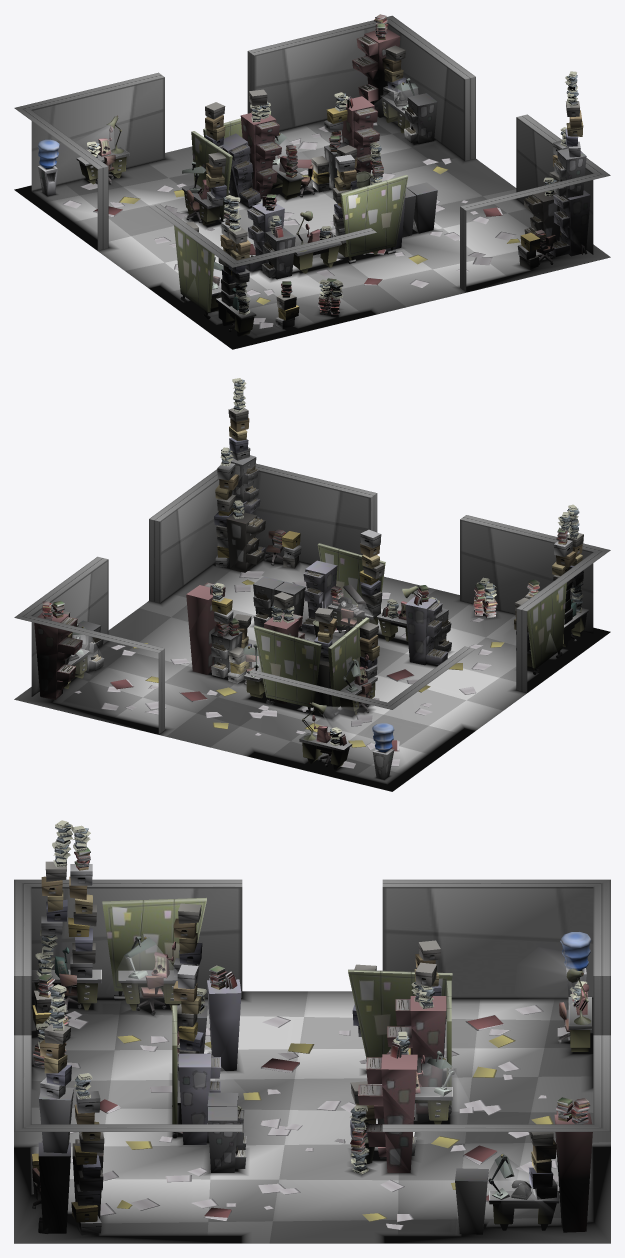
File: field_maze_quadrant8.glb
The picture shows the model from 3 angles, top to bottom: view 1: azimuth 30°, elevation 25°; view 2: azimuth 150°, elevation 25°; view 3: azimuth 270°, elevation 25°; orthographic projection. The views are drawn at different scales.
Visible parts, largest first — view 1: maze_floor, maze1_grouping1, maze2_grouping2, maze4_grouping4, maze6_grouping6, maze3_grouping3a, maze5_grouping5a, maze3_grouping3b, maze7_floorPaperGrouping, maze5_grouping5b, maze5_floorShadow_grouping5, maze2_floorShadow_grouping2 (+8 smaller); view 2: maze_floor, maze4_grouping4, maze6_grouping6, maze3_grouping3a, maze5_grouping5b, maze1_grouping1, maze5_grouping5a, maze3_grouping3b, maze7_floorPaperGrouping, maze2_grouping2, maze2_floorShadow_grouping2, maze1_floorShadow_grouping1 (+6 smaller); view 3: maze_floor, maze2_grouping2, maze5_grouping5a, maze4_grouping4, maze5_grouping5b, maze1_grouping1, maze6_grouping6, maze3_grouping3a, maze7_floorPaperGrouping, maze3_grouping3b, maze1_floorShadow_grouping1, maze4_polySurface1 (+9 smaller).
Boxes of the visible parts, box(x1,y1,x2,y2) form: maze_floor: box(19, 117, 610, 349); maze1_grouping1: box(247, 14, 475, 160); maze2_grouping2: box(14, 72, 164, 250); maze4_grouping4: box(460, 71, 610, 291); maze6_grouping6: box(245, 154, 437, 279); maze3_grouping3a: box(182, 89, 303, 225); maze5_grouping5a: box(174, 195, 256, 336); maze3_grouping3b: box(299, 92, 383, 197); maze7_floorPaperGrouping: box(63, 122, 520, 328); maze5_grouping5b: box(149, 204, 376, 329); maze5_floorShadow_grouping5: box(146, 282, 380, 349); maze2_floorShadow_grouping2: box(14, 153, 174, 252); maze_floor: box(16, 561, 608, 791); maze4_grouping4: box(149, 378, 377, 602); maze6_grouping6: box(253, 529, 451, 665); maze3_grouping3a: box(243, 592, 379, 716); maze5_grouping5b: box(460, 515, 610, 692); maze1_grouping1: box(14, 556, 164, 734); maze5_grouping5a: box(514, 504, 588, 674); maze3_grouping3b: box(186, 582, 258, 685); maze7_floorPaperGrouping: box(74, 571, 504, 768); maze2_grouping2: box(248, 646, 475, 769); maze2_floorShadow_grouping2: box(242, 724, 478, 791); maze1_floorShadow_grouping1: box(14, 641, 173, 735); maze_floor: box(14, 991, 610, 1243); maze2_grouping2: box(382, 879, 610, 1051); maze5_grouping5a: box(31, 820, 206, 1015); maze4_grouping4: box(14, 984, 242, 1235); maze5_grouping5b: box(14, 879, 242, 1068); maze1_grouping1: box(382, 1035, 610, 1234); maze6_grouping6: box(172, 964, 246, 1172); maze3_grouping3a: box(348, 940, 454, 1124); maze7_floorPaperGrouping: box(66, 1005, 569, 1229); maze3_grouping3b: box(350, 1031, 417, 1174); maze1_floorShadow_grouping1: box(374, 1143, 610, 1243); maze4_polySurface1: box(14, 1144, 250, 1243).
Size of the model in its own units: 51 by 22.85 by 51.01.
10 materials, 7 textured.
